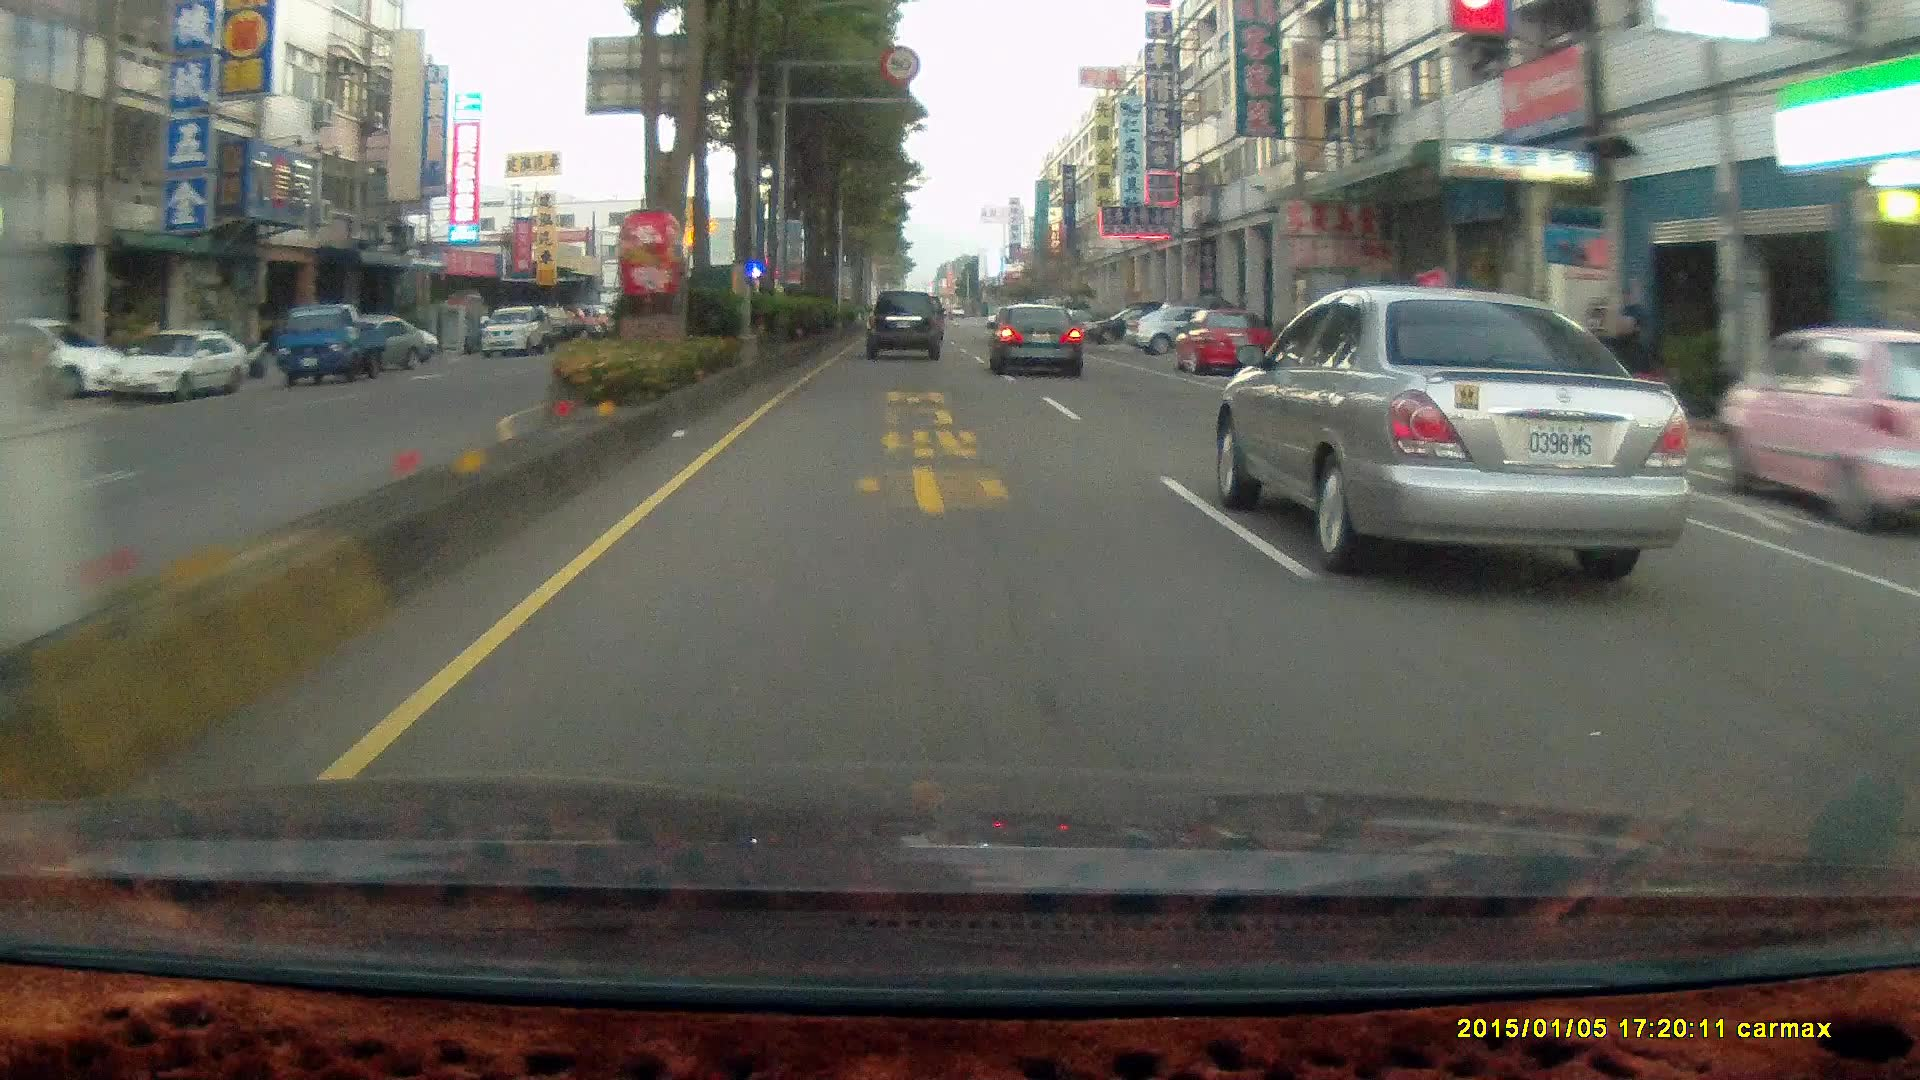vehicle: (1226, 286, 1712, 571), (1714, 322, 1920, 539), (1714, 328, 1920, 531), (1400, 294, 1605, 407), (0, 313, 131, 400), (103, 327, 247, 400), (273, 305, 402, 384), (103, 328, 248, 398), (276, 299, 386, 384), (985, 301, 1081, 377), (992, 301, 1087, 377), (1168, 306, 1265, 377), (1174, 309, 1269, 380), (1121, 295, 1240, 348), (866, 291, 949, 364), (862, 287, 942, 357), (322, 313, 423, 367), (480, 305, 549, 356), (1084, 306, 1170, 344)
